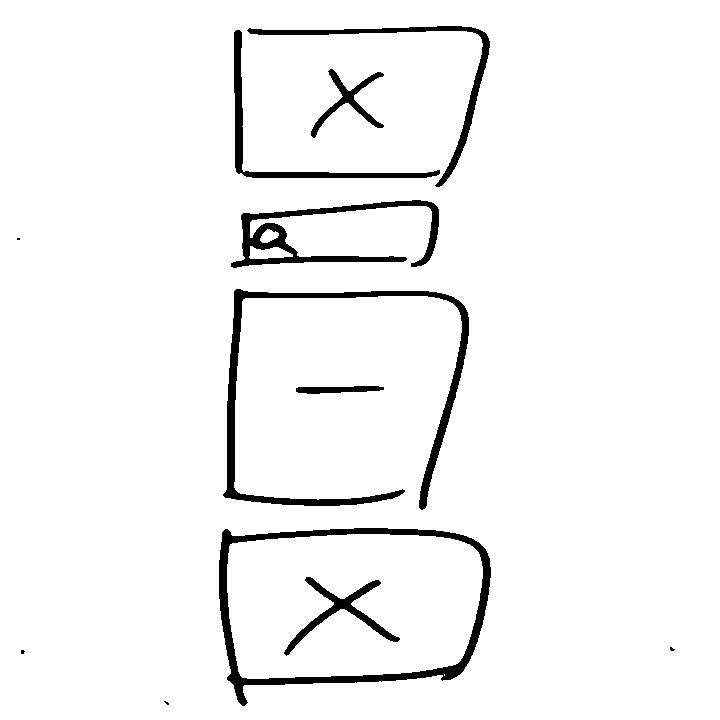button: (218, 287, 477, 517)
picture: (204, 523, 501, 706), (226, 23, 500, 194)
search bar: (221, 198, 452, 274)
